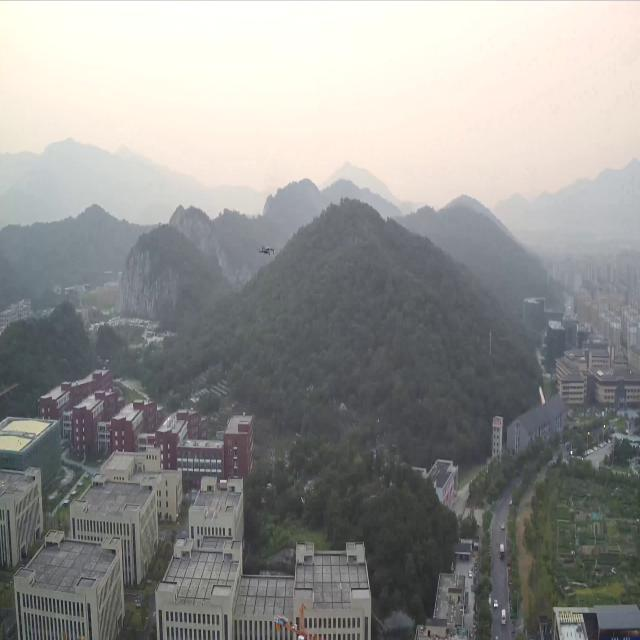UAV: (258, 243, 276, 257)
